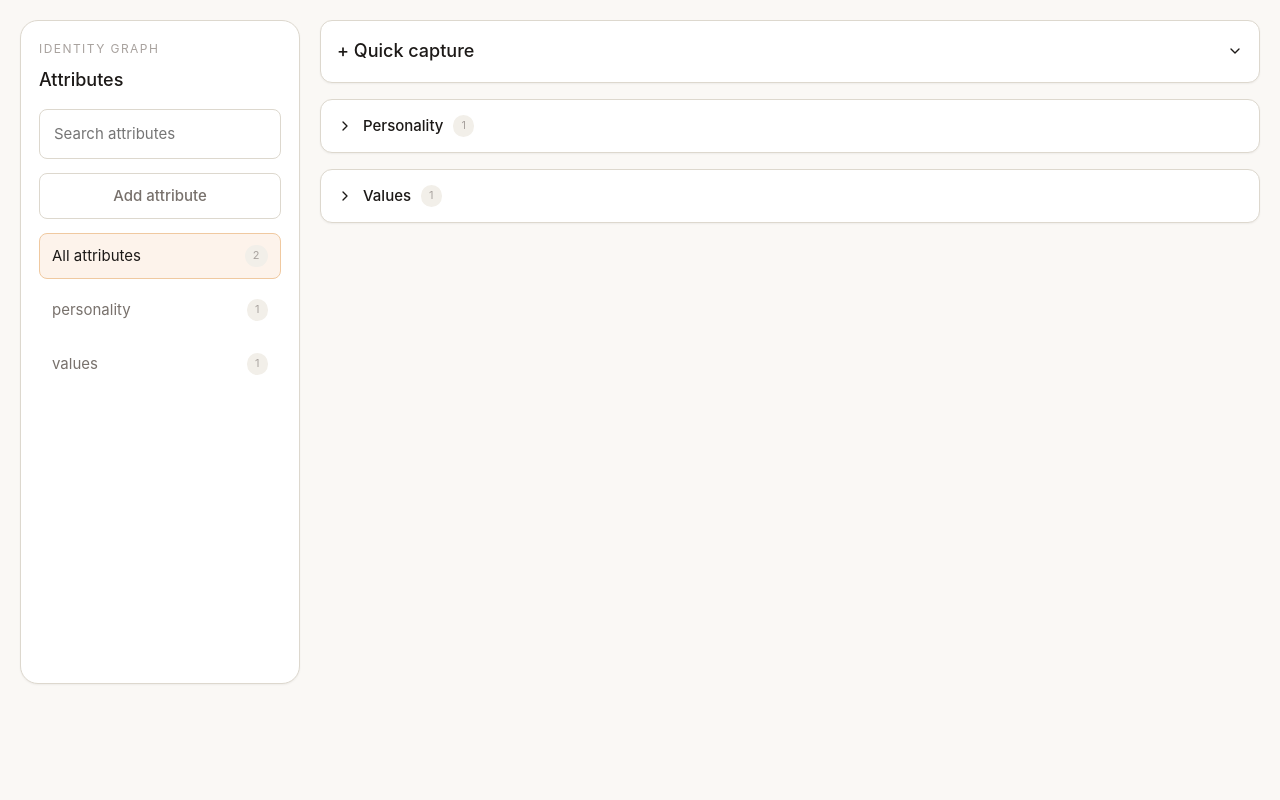
Scenario: GraphTab › filters attributes via search and sidebar domain selection
Check: the text "Honest relationships matter most" is not shown
In the search field with placeholder "Search attributes": (160, 134) x1=39 y1=109 x2=281 y2=159, type "honest"
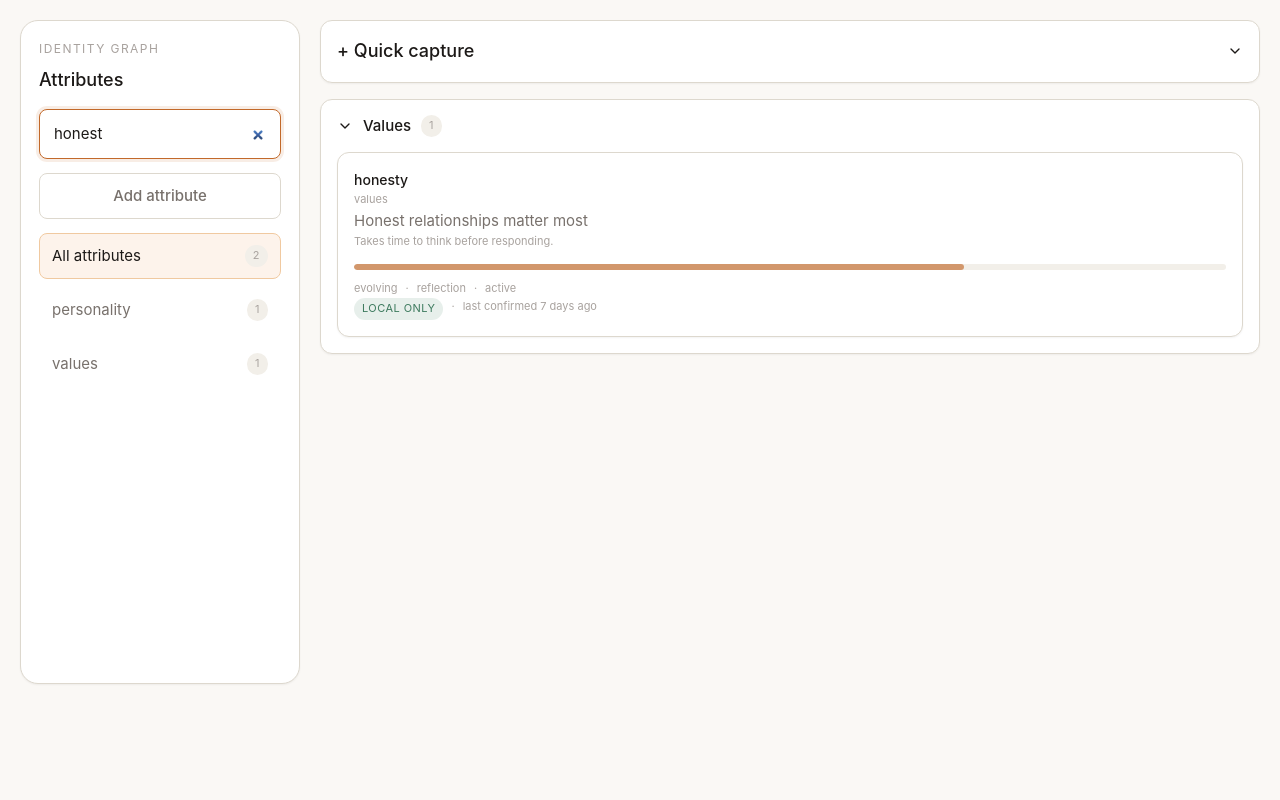
Check: the text "Honest relationships matter most" is shown, box x1=354 y1=211 x2=588 y2=230
Clear the search field with placeholder "Search attributes": (160, 134) x1=39 y1=109 x2=281 y2=159
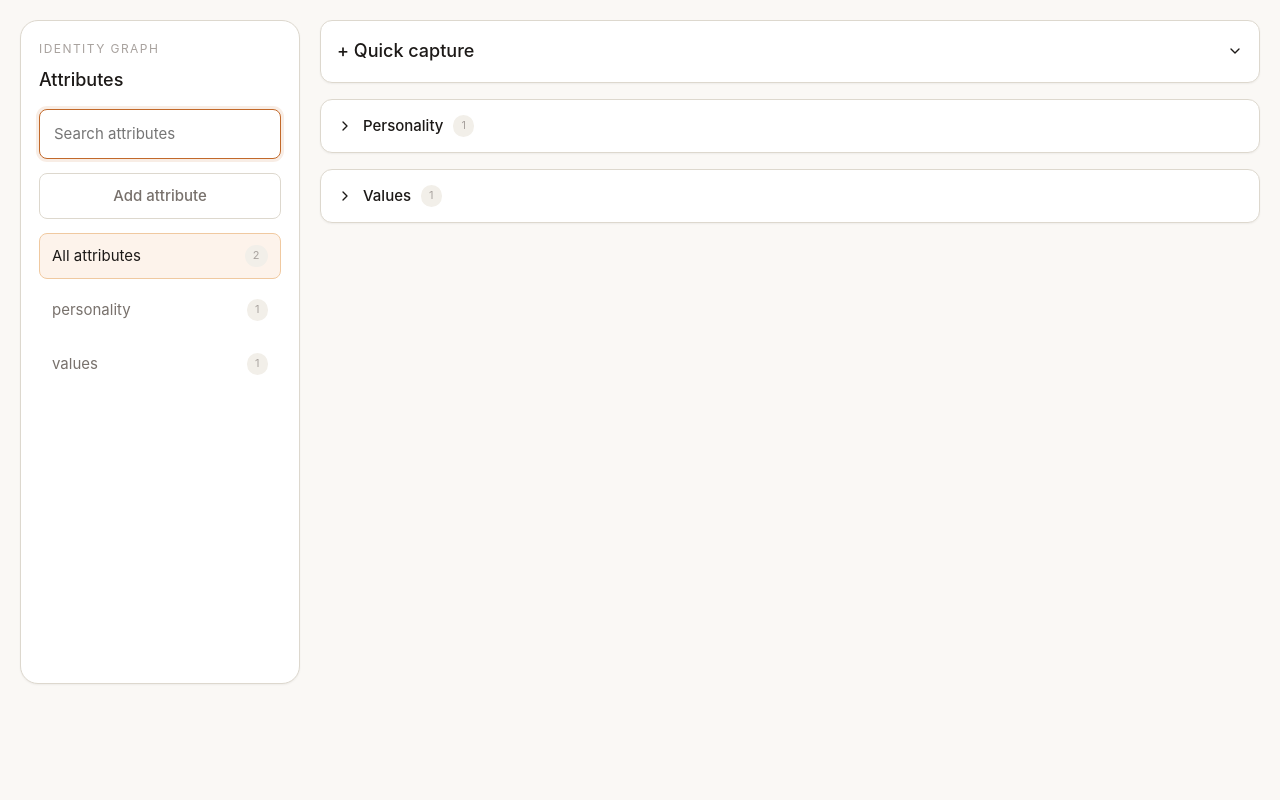
Click the button named "values1": (160, 364) x1=39 y1=341 x2=281 y2=387
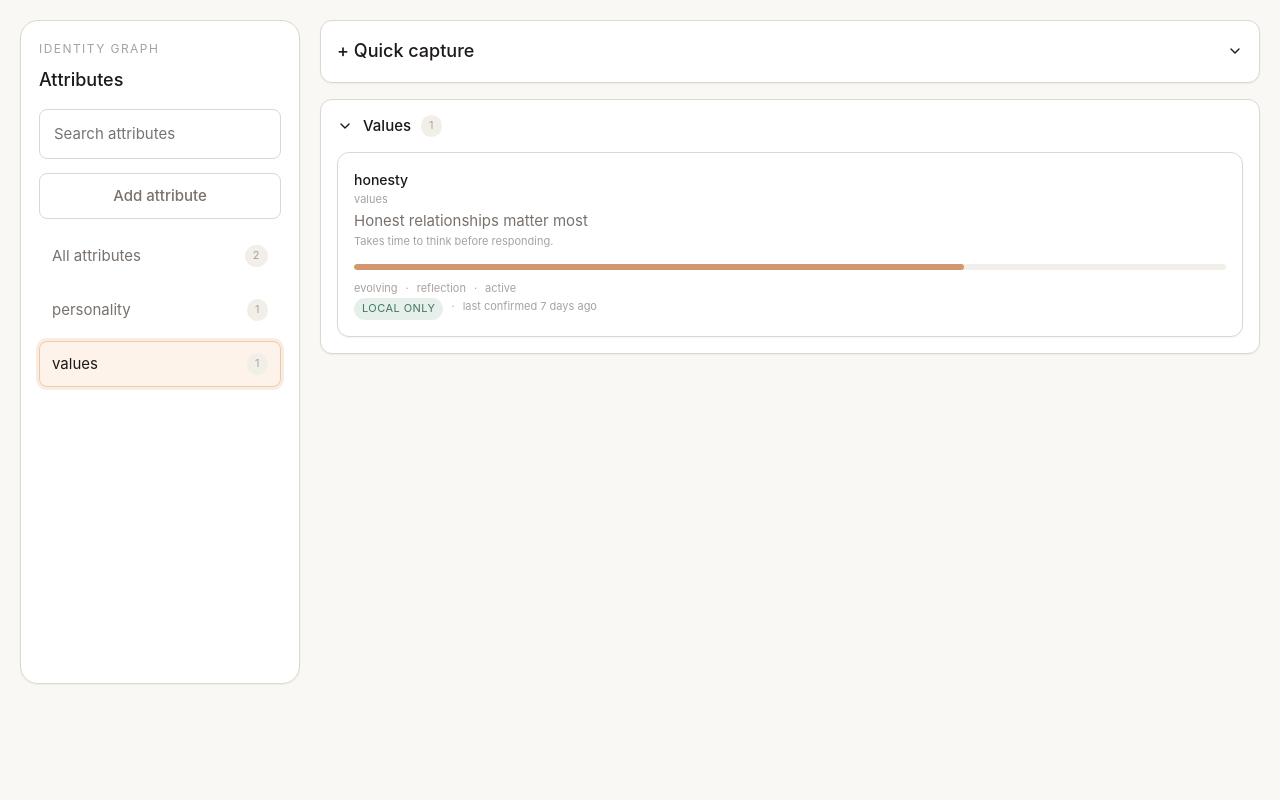
Check: the text "Honest relationships matter most" is shown, box x1=354 y1=211 x2=588 y2=230
